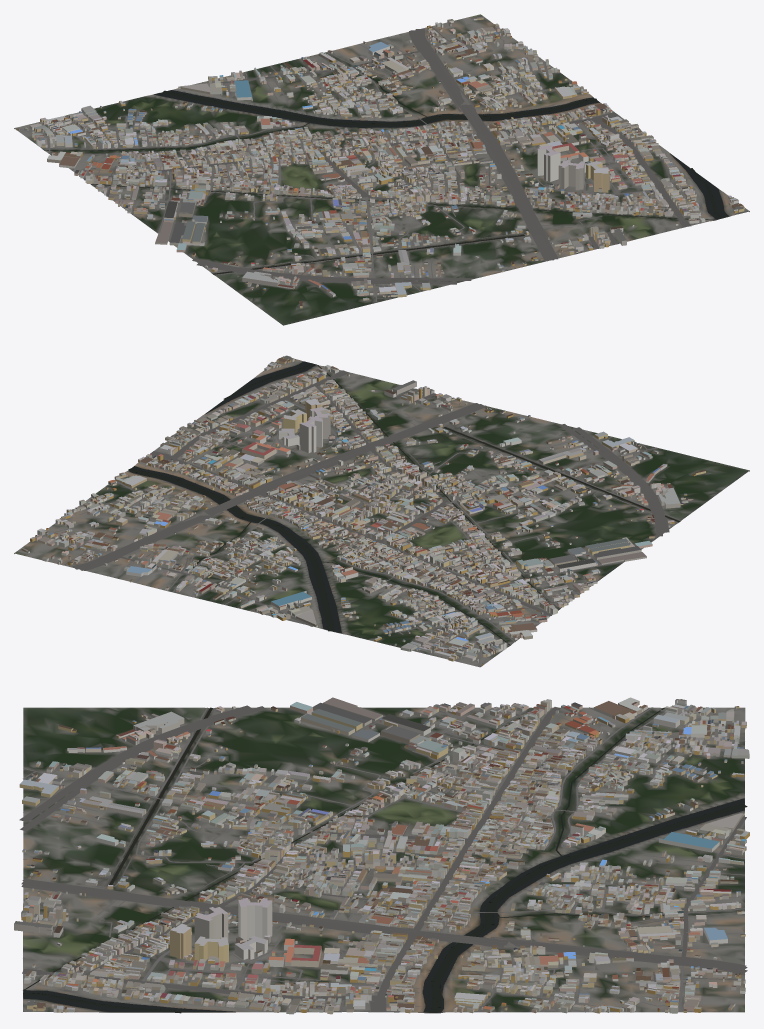
The picture shows the model from 3 angles, top to bottom: view 1: azimuth 30°, elevation 25°; view 2: azimuth 150°, elevation 25°; view 3: azimuth 270°, elevation 25°; orthographic projection. The views are drawn at different scales.
Parts seen in each view (by area): view 1: buildings, ground, roads, water; view 2: buildings, ground, roads, water; view 3: buildings, ground, roads, water.
Boxes of the visible parts, x1=… form: buildings: x1=16, y1=17, x2=744, y2=308; ground: x1=14, y1=14, x2=749, y2=325; roads: x1=15, y1=26, x2=703, y2=302; water: x1=44, y1=72, x2=728, y2=274; buildings: x1=21, y1=355, x2=705, y2=665; ground: x1=14, y1=356, x2=749, y2=667; roads: x1=37, y1=370, x2=681, y2=666; water: x1=128, y1=361, x2=679, y2=645; buildings: x1=14, y1=697, x2=749, y2=1014; ground: x1=23, y1=707, x2=745, y2=1013; roads: x1=19, y1=705, x2=747, y2=1012; water: x1=23, y1=707, x2=747, y2=1013.
Bounding box in the file's own units: 1447 × 78.43 × 1428.
